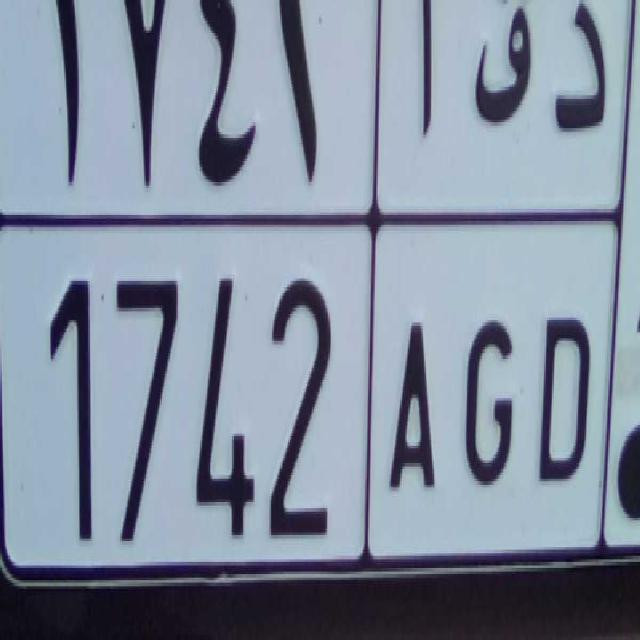license_plate: (6, 236, 604, 603)
